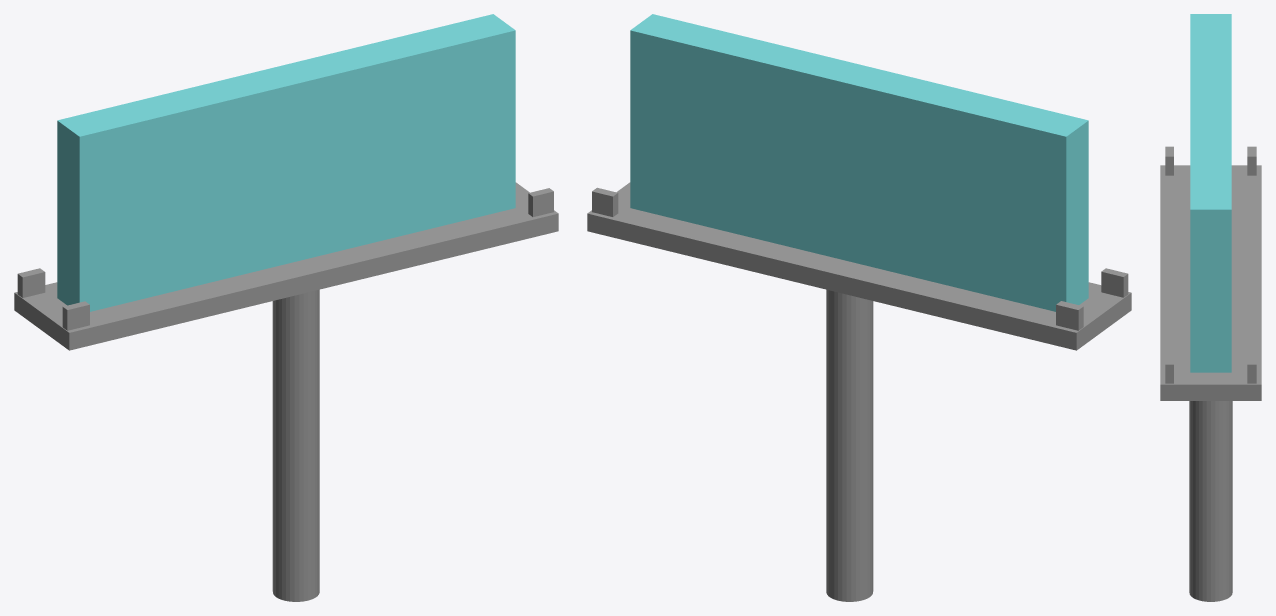
Rendered from Cartel.fbx.
3 views of the same model, side by side, from view 1: azimuth 30°, elevation 25°; view 2: azimuth 150°, elevation 25°; view 3: azimuth 270°, elevation 25° (orthographic). The views are drawn at different scales.
Visible parts, largest first — view 1: Cylinder; view 2: Cylinder; view 3: Cylinder.
Part boxes in pixels (left/top/right/bottom): Cylinder: left=14, top=14, right=558, bottom=601; Cylinder: left=587, top=14, right=1131, bottom=601; Cylinder: left=1160, top=14, right=1261, bottom=601.
Size of the model in its own units: 24.09 by 24.41 by 4.69.
